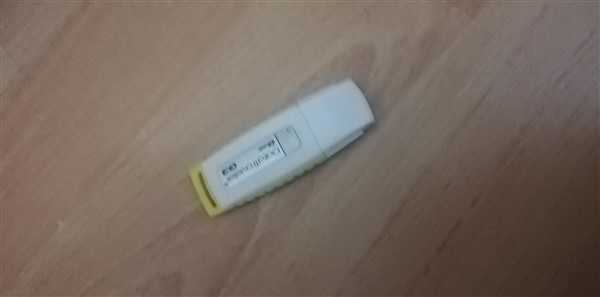flash disk: (187, 77, 377, 217)
